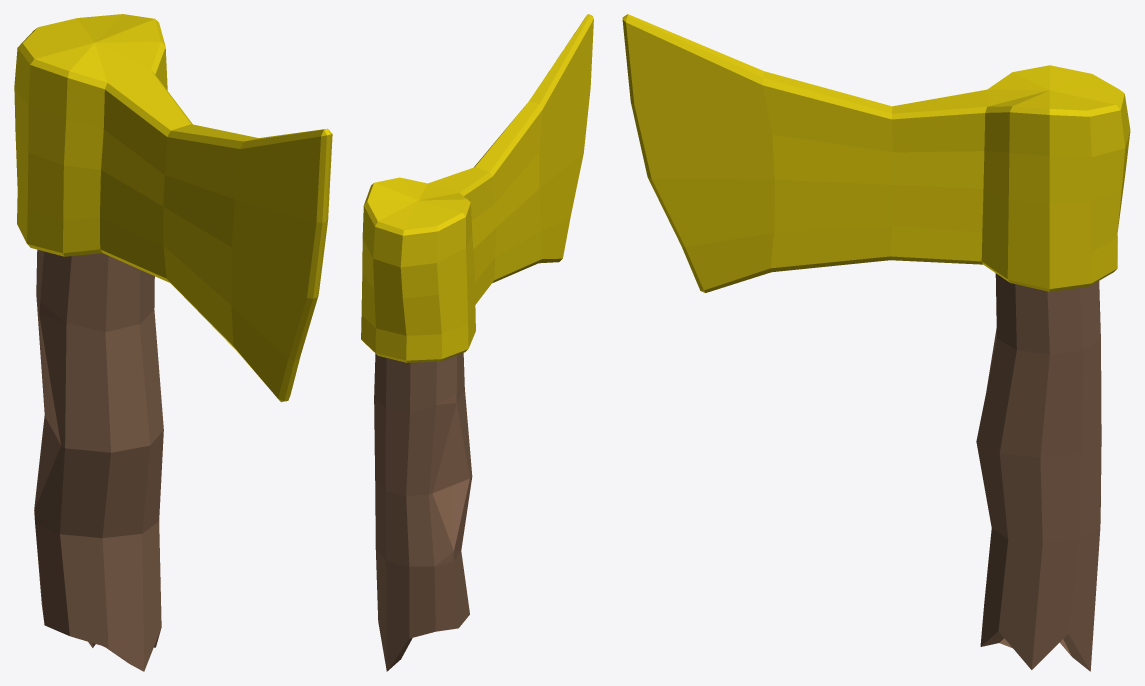
The model's file is Axe_01_Destroyed_Gold.fbx.
3 renders of one model, left to right at view 1: azimuth 30°, elevation 25°; view 2: azimuth 150°, elevation 25°; view 3: azimuth 270°, elevation 25°, orthographic. The views are drawn at different scales.
Parts seen in each view (by area): view 1: Axe01_Destroyed_Gold; view 2: Axe01_Destroyed_Gold; view 3: Axe01_Destroyed_Gold.
Boxes of the visible parts, x1,y1,x2,y2 form: Axe01_Destroyed_Gold: [14, 14, 332, 671]; Axe01_Destroyed_Gold: [361, 14, 593, 671]; Axe01_Destroyed_Gold: [622, 14, 1130, 671].
Size of the model in its own units: 13.94 by 69.73 by 49.54.
